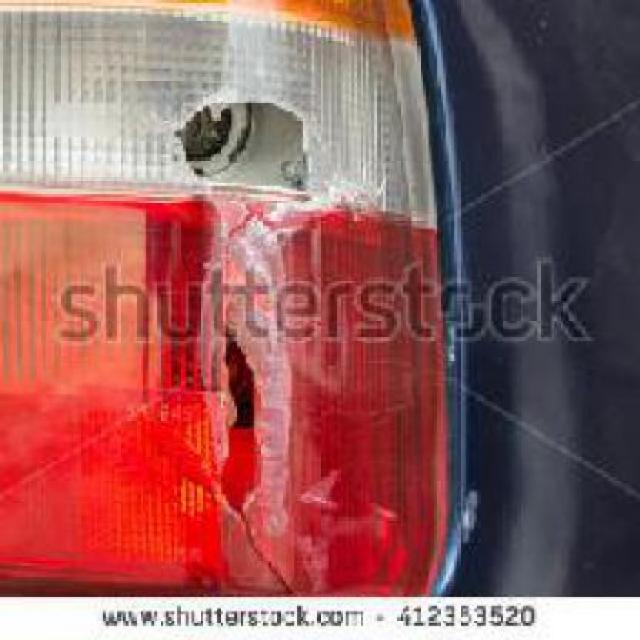damaged-head-light: (0, 0, 460, 600)
